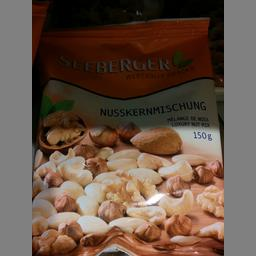nuts: (33, 16, 224, 255)
